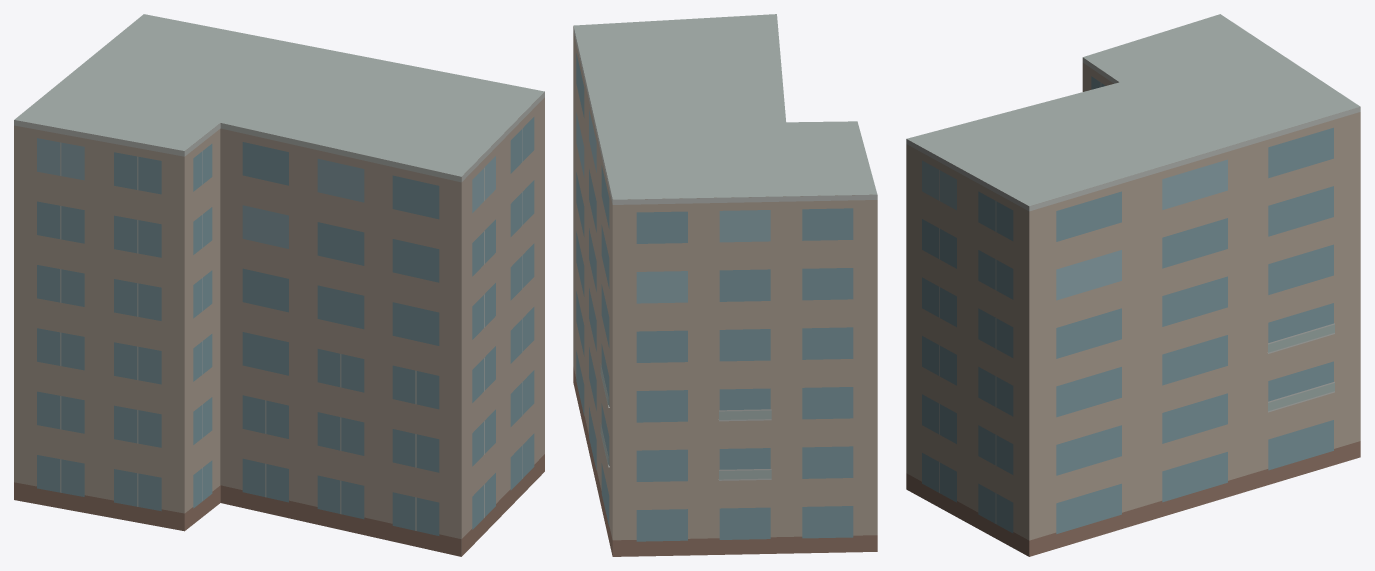
File: survey-upis-32965603.glb
3 views of the same model, side by side, from view 1: azimuth 30°, elevation 25°; view 2: azimuth 150°, elevation 25°; view 3: azimuth 270°, elevation 25° (orthographic). The views are drawn at different scales.
Visible parts, largest first — view 1: survey-upis-32965603.tmp; view 2: survey-upis-32965603.tmp; view 3: survey-upis-32965603.tmp.
Boxes of the visible parts, bbox=[...] form: survey-upis-32965603.tmp: bbox=[14, 14, 544, 556]; survey-upis-32965603.tmp: bbox=[573, 14, 877, 556]; survey-upis-32965603.tmp: bbox=[906, 14, 1360, 556].
Bounding box in the file's own units: 19.41 × 16.5 × 19.38.
